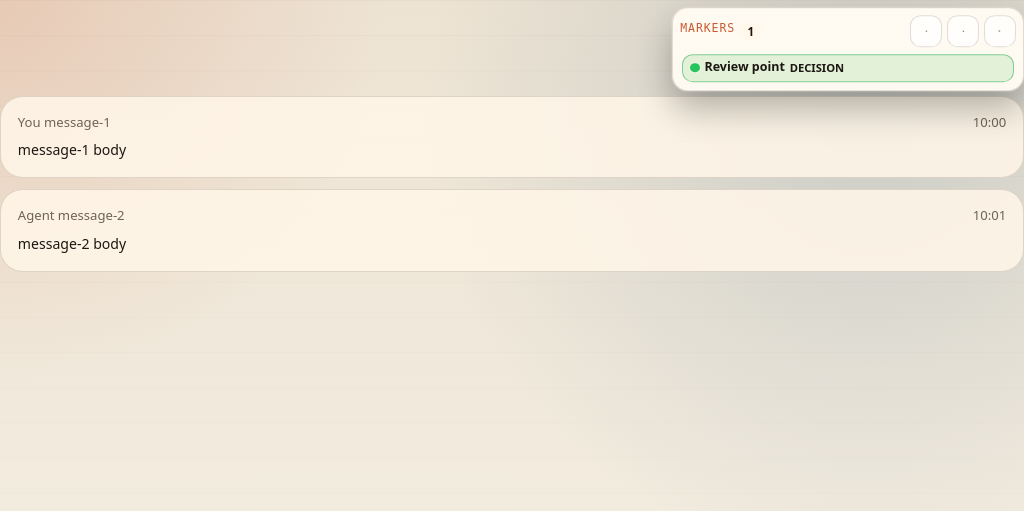
Test: AgentSessionPanel conversation caching › keeps marker removal items between add and window visibility actions
This screenshot has width=1024, height=511.
Right-click the text "Agent message-2": (71, 215) [18, 206, 125, 224]
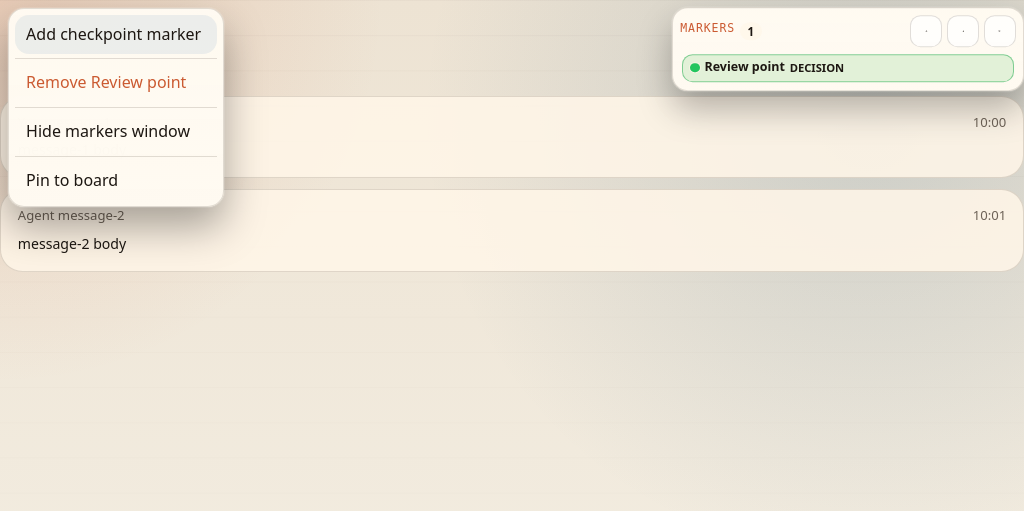
Now the menu items read "Add checkpoint marker", "Remove Review point", "Hide markers window", "Pin to board", in this order, box [15, 15, 217, 54]; [15, 64, 217, 102]; [15, 112, 217, 152]; [15, 161, 217, 200]
